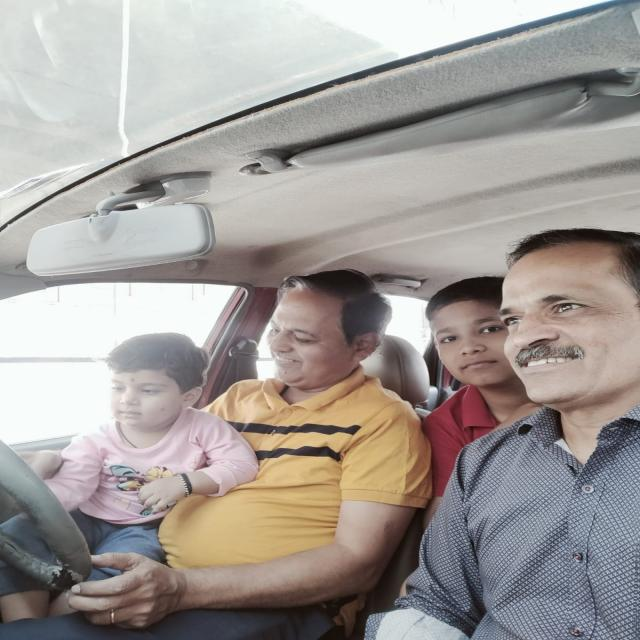child: (64, 323, 227, 450), (409, 272, 509, 401)
person: (477, 215, 640, 439), (238, 245, 398, 417)
